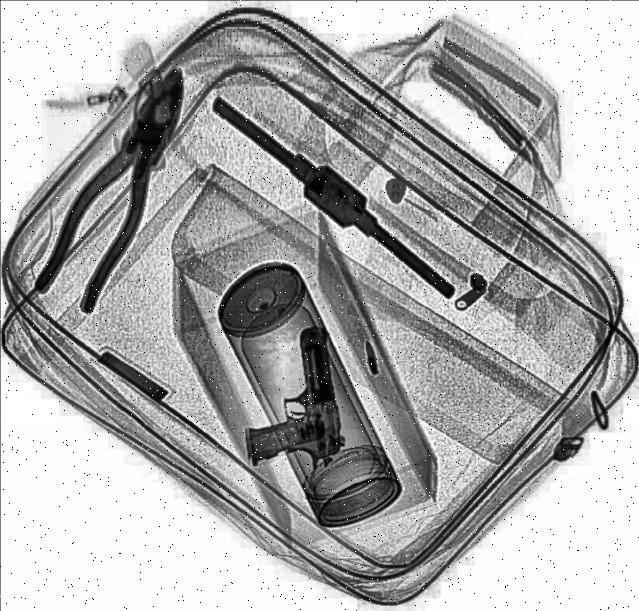Gun: (230, 324, 347, 474)
Pliers: (28, 53, 212, 316)
